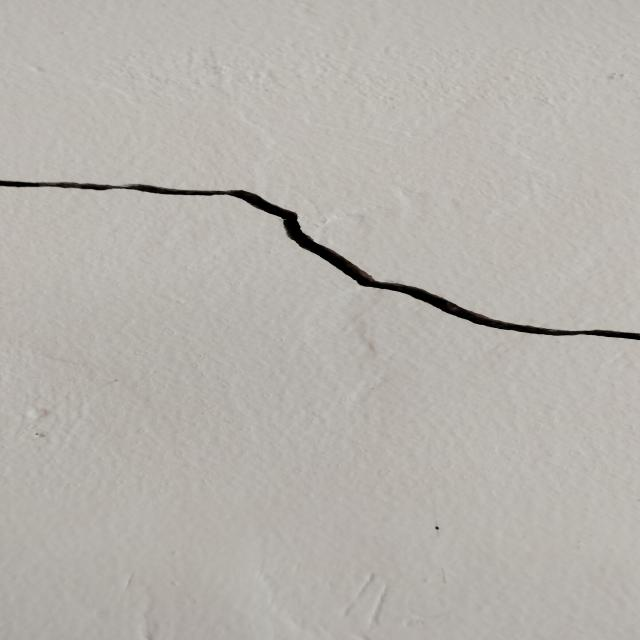Crack: (3, 174, 640, 344)
